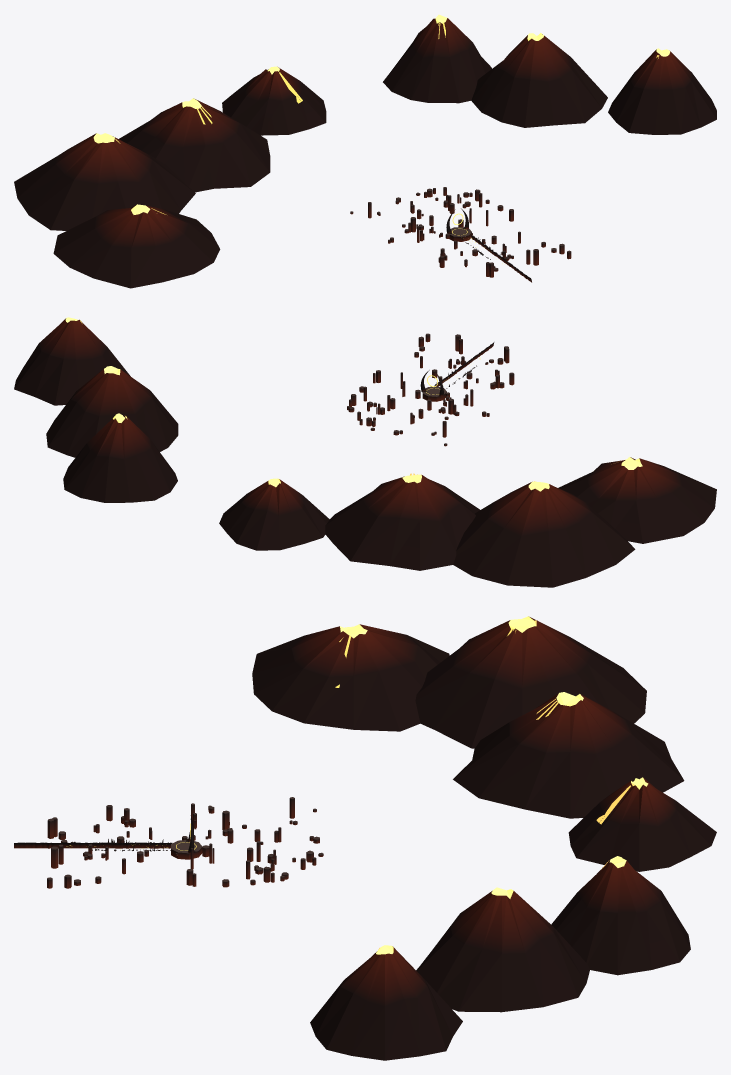
File: hell.glb
3 views of the same model, one above another, from view 1: azimuth 30°, elevation 25°; view 2: azimuth 150°, elevation 25°; view 3: azimuth 270°, elevation 25° (orthographic). The views are drawn at different scales.
Parts seen in each view (by area): view 1: X_Paint, X_Glow; view 2: X_Paint, X_Glow; view 3: X_Paint, X_Glow.
Boxes of the visible parts, bbox=[...] form: X_Paint: bbox=[14, 18, 716, 288]; X_Glow: bbox=[93, 14, 670, 263]; X_Paint: bbox=[14, 318, 716, 587]; X_Glow: bbox=[65, 317, 642, 491]; X_Paint: bbox=[14, 617, 716, 1060]; X_Glow: bbox=[66, 616, 648, 954].
Size of the model in its own units: 430 by 41.69 by 302.
